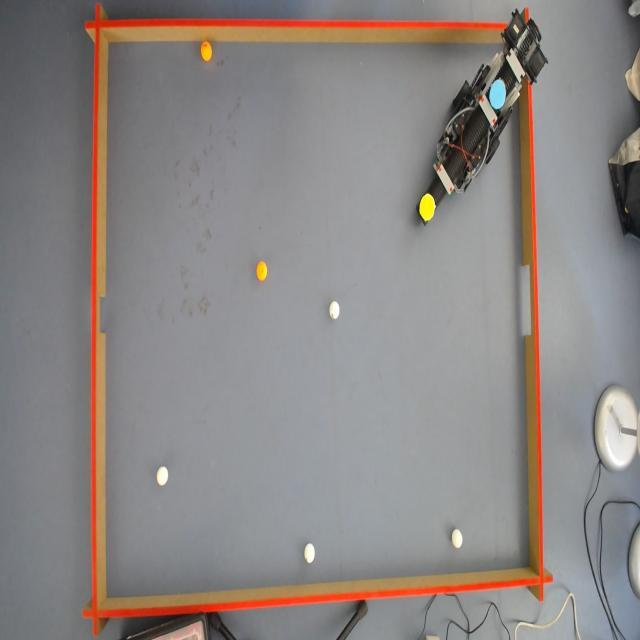orange: (200, 41, 212, 64), (258, 261, 270, 280)
robot: (416, 12, 548, 228)
robot-front: (418, 193, 434, 220)
robot-rear: (489, 78, 507, 111)
white: (451, 529, 465, 551), (157, 465, 170, 488), (304, 542, 317, 564), (330, 300, 340, 320)
